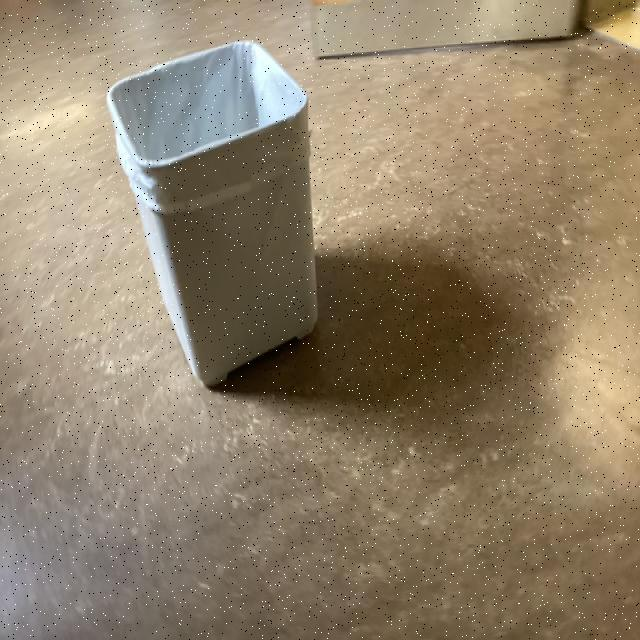garbage container: (96, 31, 360, 417)
